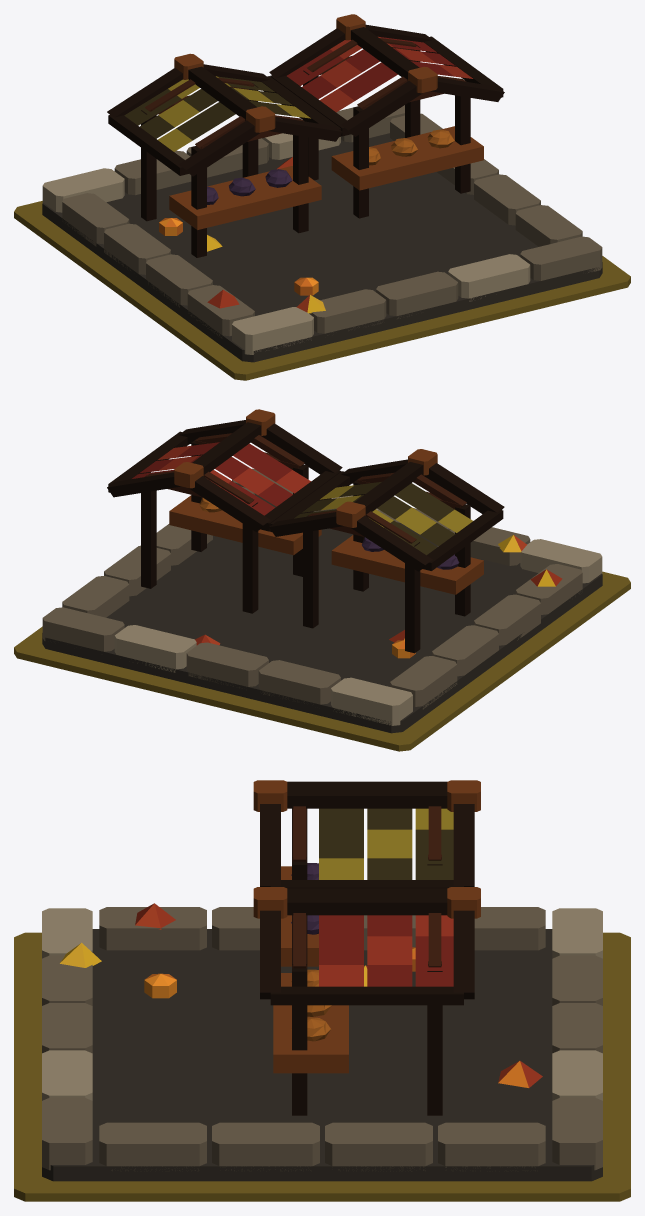
Rendered from market_t1.glb.
3 views of the same model, one above another, from view 1: azimuth 30°, elevation 25°; view 2: azimuth 150°, elevation 25°; view 3: azimuth 270°, elevation 25° (orthographic). The views are drawn at different scales.
Parts seen in each view (by area): view 1: MMR | market | T01 Architecture.001, MMR | market | Tier 01 Ground.001, MMR | market | T01 Autumn Dressing.001; view 2: MMR | market | T01 Architecture.001, MMR | market | Tier 01 Ground.001, MMR | market | T01 Autumn Dressing.001; view 3: MMR | market | T01 Architecture.001, MMR | market | Tier 01 Ground.001, MMR | market | T01 Autumn Dressing.001.
Part boxes in pixels (bbox=[...]): MMR | market | T01 Architecture.001: bbox=[42, 14, 602, 362]; MMR | market | Tier 01 Ground.001: bbox=[14, 201, 630, 380]; MMR | market | T01 Autumn Dressing.001: bbox=[159, 157, 325, 313]; MMR | market | T01 Architecture.001: bbox=[42, 409, 602, 733]; MMR | market | Tier 01 Ground.001: bbox=[14, 571, 630, 751]; MMR | market | T01 Autumn Dressing.001: bbox=[195, 535, 562, 658]; MMR | market | T01 Architecture.001: bbox=[42, 780, 602, 1181]; MMR | market | Tier 01 Ground.001: bbox=[14, 932, 630, 1201]; MMR | market | T01 Autumn Dressing.001: bbox=[60, 903, 542, 1087].
Size of the model in its own units: 3.3 by 1.37 by 3.3.
1 material, 1 textured.
